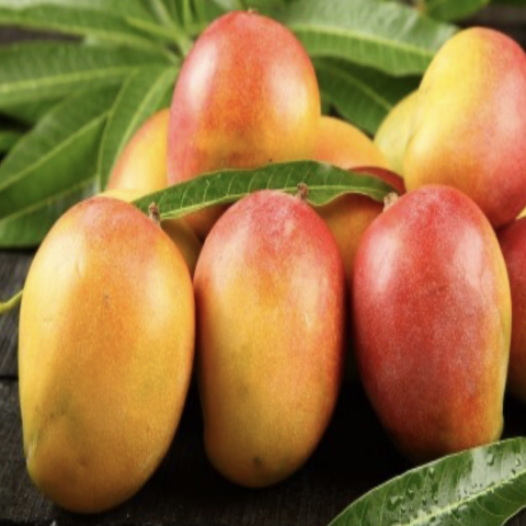mango: (12, 171, 205, 504), (341, 154, 525, 490), (187, 195, 362, 492), (154, 0, 339, 234)
